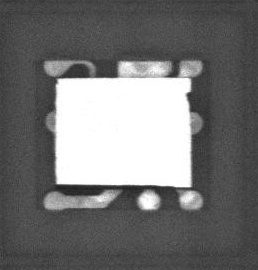DIE_BROKEN: (185, 89, 191, 114)
